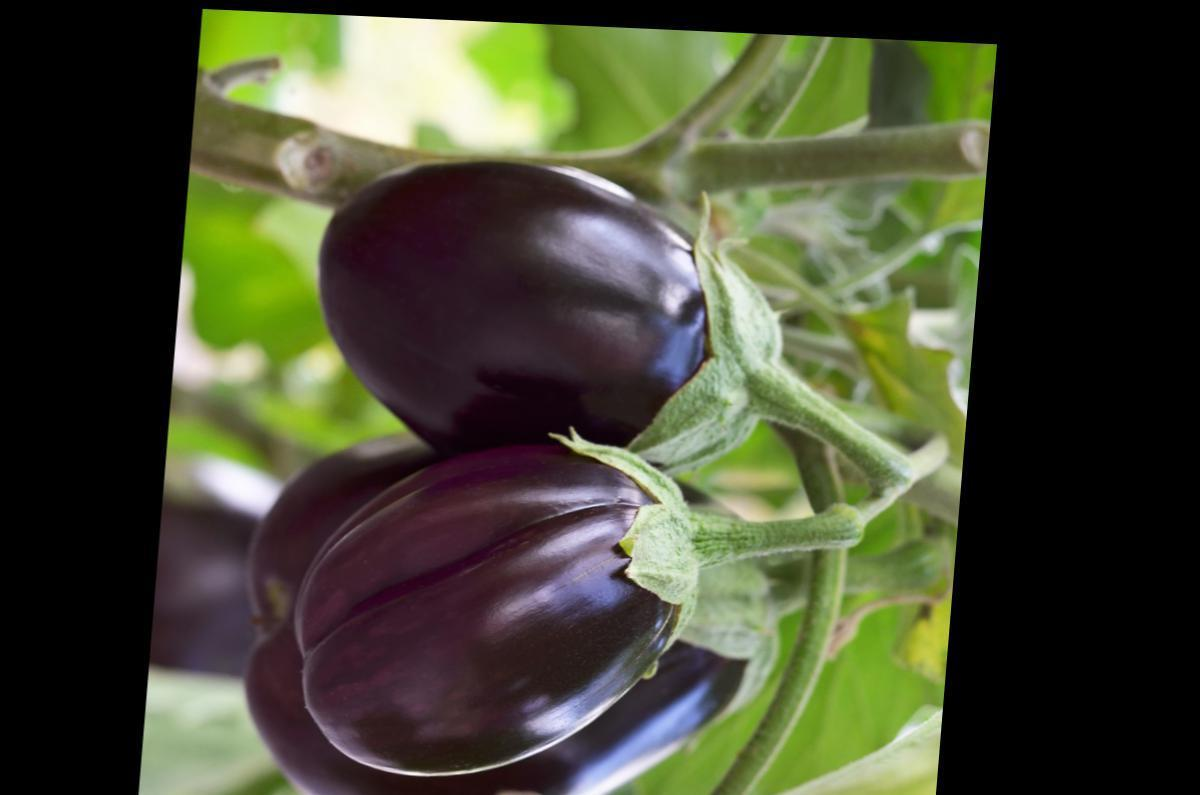eggplant: (270, 71, 995, 794), (203, 343, 903, 794)
